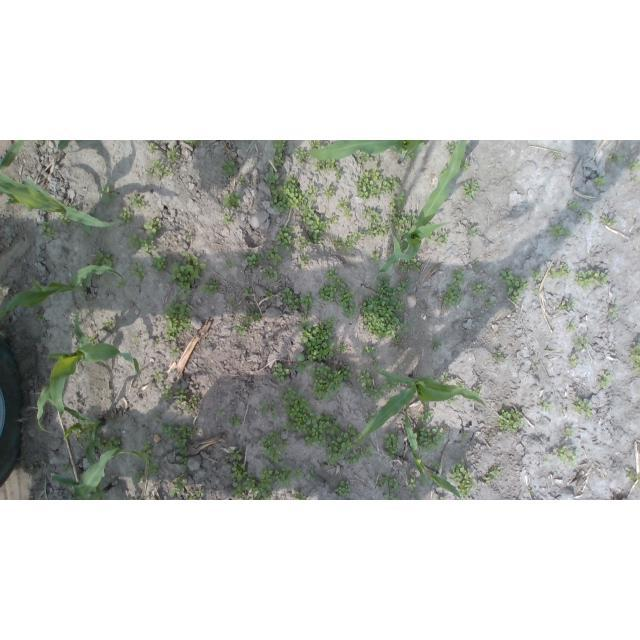Maize: (374, 140, 467, 282), (37, 312, 141, 435), (353, 367, 487, 447), (1, 169, 124, 235), (0, 264, 126, 318), (50, 449, 147, 500), (46, 395, 104, 466), (408, 441, 462, 499), (309, 141, 431, 164), (1, 141, 80, 172), (404, 405, 431, 493)
Weeds: (278, 385, 340, 448), (360, 276, 412, 345), (326, 424, 373, 469), (298, 316, 335, 364), (308, 362, 353, 401), (326, 267, 359, 319), (170, 251, 207, 297), (269, 175, 309, 215), (163, 298, 194, 343), (299, 203, 330, 245), (259, 465, 294, 500), (160, 421, 196, 455), (448, 459, 477, 498), (440, 270, 467, 311), (387, 208, 417, 244), (261, 428, 290, 465), (354, 165, 383, 202), (231, 461, 258, 500), (500, 270, 528, 305), (362, 206, 389, 238), (357, 369, 383, 401), (413, 426, 445, 452), (331, 231, 365, 254), (496, 407, 524, 434), (375, 473, 400, 500), (126, 233, 156, 255), (145, 160, 175, 181), (98, 436, 123, 461), (276, 224, 296, 252), (552, 446, 578, 467), (571, 396, 593, 419), (574, 270, 599, 290), (243, 248, 265, 270), (90, 251, 118, 268), (143, 216, 162, 240), (283, 287, 302, 311), (382, 429, 398, 457), (381, 176, 402, 196), (100, 182, 119, 204), (461, 179, 479, 202), (628, 340, 640, 374), (337, 197, 354, 221), (272, 141, 287, 168), (258, 399, 278, 419), (270, 362, 290, 382), (548, 224, 573, 240), (38, 218, 58, 238), (223, 192, 244, 211), (264, 167, 281, 190), (200, 277, 220, 296), (547, 264, 571, 279), (318, 283, 336, 303), (292, 354, 309, 375), (130, 262, 147, 283), (266, 244, 282, 266), (399, 258, 422, 273), (146, 458, 163, 478), (482, 466, 502, 483), (170, 477, 186, 498), (624, 467, 640, 488), (595, 371, 613, 389), (219, 160, 237, 178), (388, 191, 407, 208), (129, 193, 148, 210), (243, 308, 262, 325), (313, 159, 335, 173), (334, 481, 352, 498), (417, 407, 434, 425), (150, 252, 167, 270), (355, 149, 375, 164), (294, 146, 310, 164), (260, 266, 279, 281), (470, 280, 487, 296), (609, 150, 626, 166), (294, 235, 311, 251), (299, 292, 315, 309), (445, 140, 460, 158), (117, 206, 132, 224), (185, 395, 199, 414), (175, 385, 187, 407), (140, 440, 155, 457), (383, 379, 400, 394), (307, 181, 319, 202), (574, 337, 590, 352), (308, 141, 329, 152), (557, 299, 576, 311), (57, 212, 72, 227), (429, 338, 443, 354), (457, 156, 471, 172), (166, 146, 180, 162), (291, 486, 306, 500), (177, 456, 190, 472), (594, 173, 607, 189), (601, 214, 618, 226), (567, 355, 581, 369), (492, 349, 506, 363), (229, 448, 244, 461), (436, 372, 451, 385), (161, 385, 172, 402), (135, 469, 148, 483), (407, 477, 420, 491), (582, 210, 595, 224), (185, 491, 204, 500), (609, 302, 619, 319), (436, 231, 449, 244), (324, 186, 337, 199), (298, 253, 311, 266), (292, 467, 304, 481), (370, 249, 381, 264), (230, 415, 243, 427), (298, 311, 310, 324), (539, 400, 552, 412), (430, 472, 443, 484), (147, 142, 159, 155), (531, 267, 542, 281), (601, 273, 612, 287), (364, 412, 378, 423), (567, 201, 581, 212), (628, 158, 640, 170), (430, 460, 443, 471), (222, 213, 233, 226), (235, 323, 248, 334), (102, 319, 115, 330), (85, 334, 99, 344), (153, 369, 163, 383), (361, 346, 376, 355), (566, 321, 577, 333), (243, 285, 254, 297), (467, 224, 477, 237), (444, 396, 458, 405), (224, 257, 235, 268), (337, 344, 348, 354), (405, 151, 416, 161), (239, 175, 250, 185), (184, 231, 194, 241), (227, 297, 237, 307), (330, 213, 339, 224), (335, 168, 343, 180), (216, 408, 226, 417), (309, 469, 318, 479), (564, 428, 574, 437), (631, 174, 640, 184), (115, 280, 125, 289), (264, 288, 274, 297), (170, 348, 180, 357), (110, 416, 119, 425), (471, 386, 479, 396), (440, 165, 448, 175), (184, 140, 200, 145), (132, 333, 140, 343), (62, 466, 73, 473), (461, 433, 469, 442), (154, 337, 163, 345), (370, 358, 378, 366), (456, 382, 465, 389), (37, 315, 46, 322), (80, 438, 87, 447), (153, 415, 163, 421), (428, 231, 434, 241), (533, 285, 539, 295), (41, 461, 48, 468), (487, 300, 494, 307), (413, 493, 420, 500), (544, 456, 552, 462), (554, 153, 562, 159), (535, 360, 541, 367), (526, 489, 534, 494), (436, 495, 444, 500), (36, 140, 45, 144), (30, 465, 35, 471), (475, 262, 480, 268), (426, 222, 431, 227), (218, 209, 223, 214), (224, 462, 228, 466)
